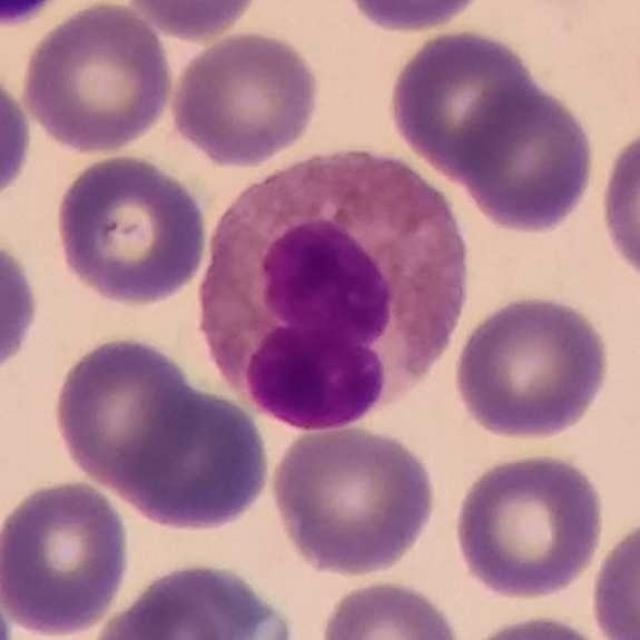Basophil: (195, 128, 473, 435)
RBC: (266, 421, 441, 579), (49, 149, 213, 310), (451, 290, 614, 443), (113, 381, 274, 535), (18, 1, 177, 156), (49, 331, 200, 494), (450, 448, 608, 602), (384, 25, 541, 179), (451, 75, 600, 237), (166, 27, 324, 168), (0, 475, 135, 638), (96, 556, 294, 640), (314, 576, 465, 640), (594, 117, 640, 291), (586, 511, 640, 640), (0, 229, 43, 383), (120, 0, 267, 41), (335, 0, 493, 36), (0, 61, 36, 208), (456, 610, 618, 640), (0, 0, 67, 32)
